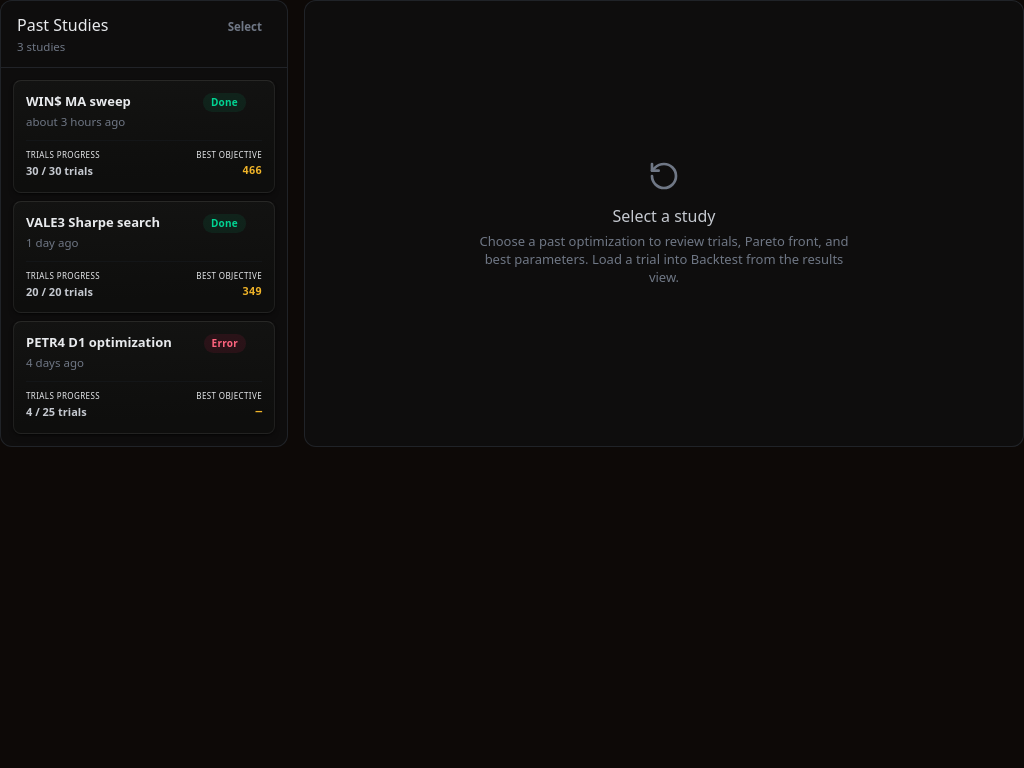
Scenario: OptimizationHistoryPanel › supports bulk delete selection flow
The image size is (1024, 768).
Expected: the heading "Past Studies" is shown, [17,13,108,37]
Click the button "Select" at (245, 27), box [219,13,271,41]
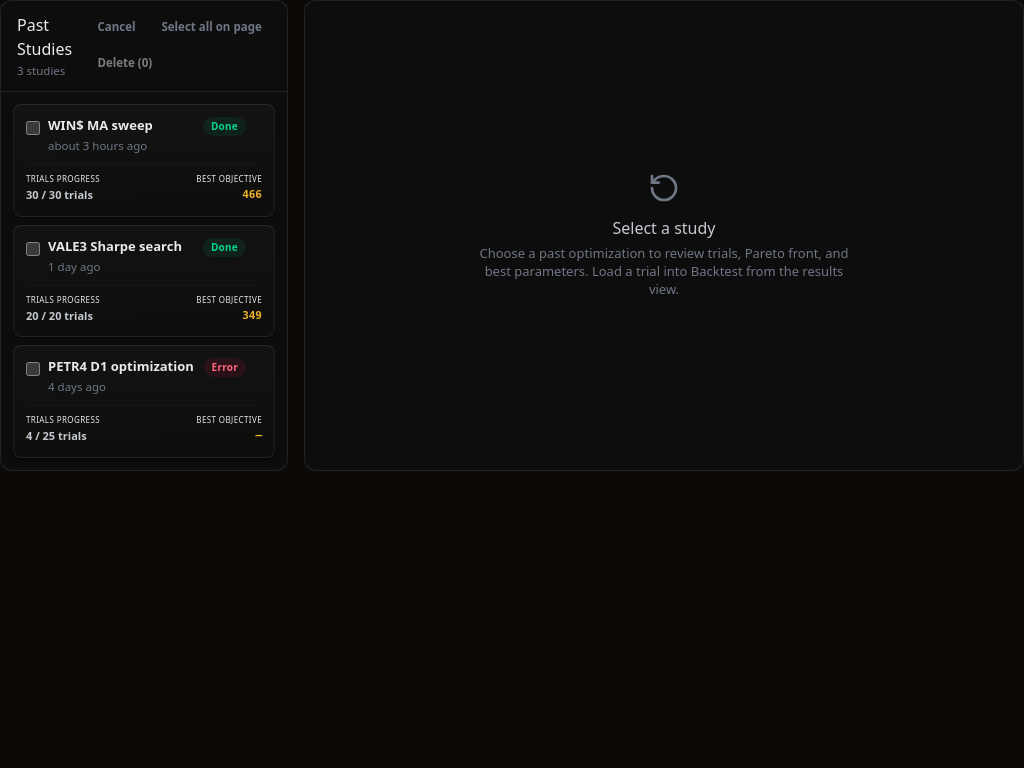
Click the 1st checkbox named "Select item" at (33, 128), box [26,121,40,135]
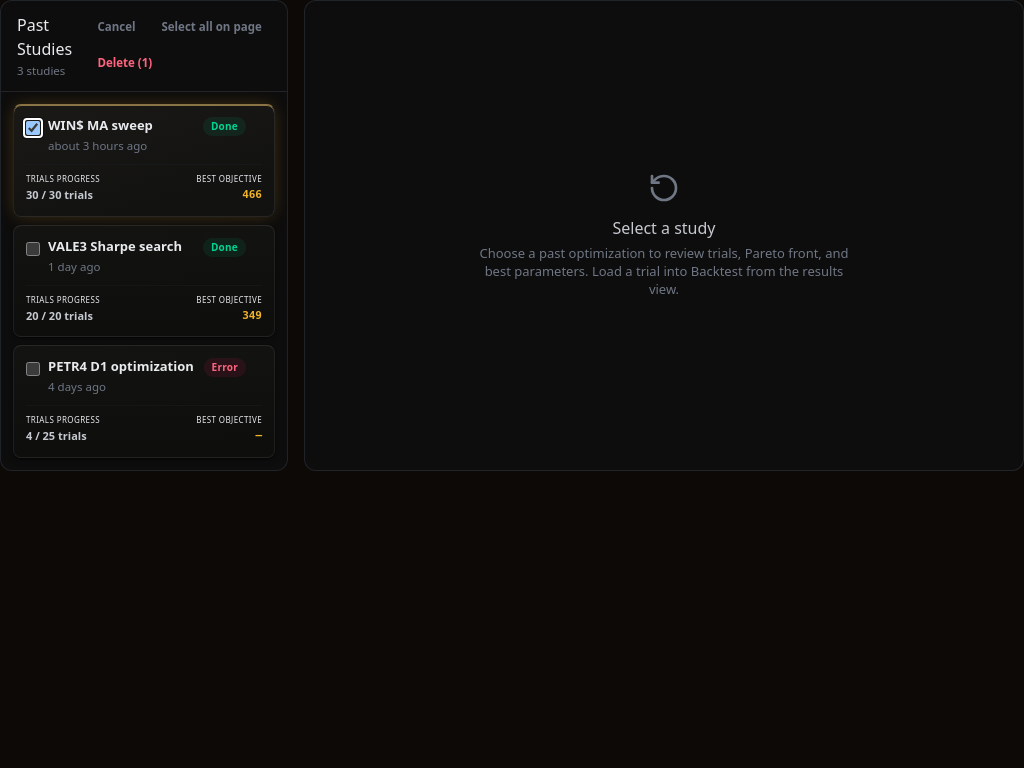
Click the button "Delete (1)" at (125, 63), box [88,49,161,77]
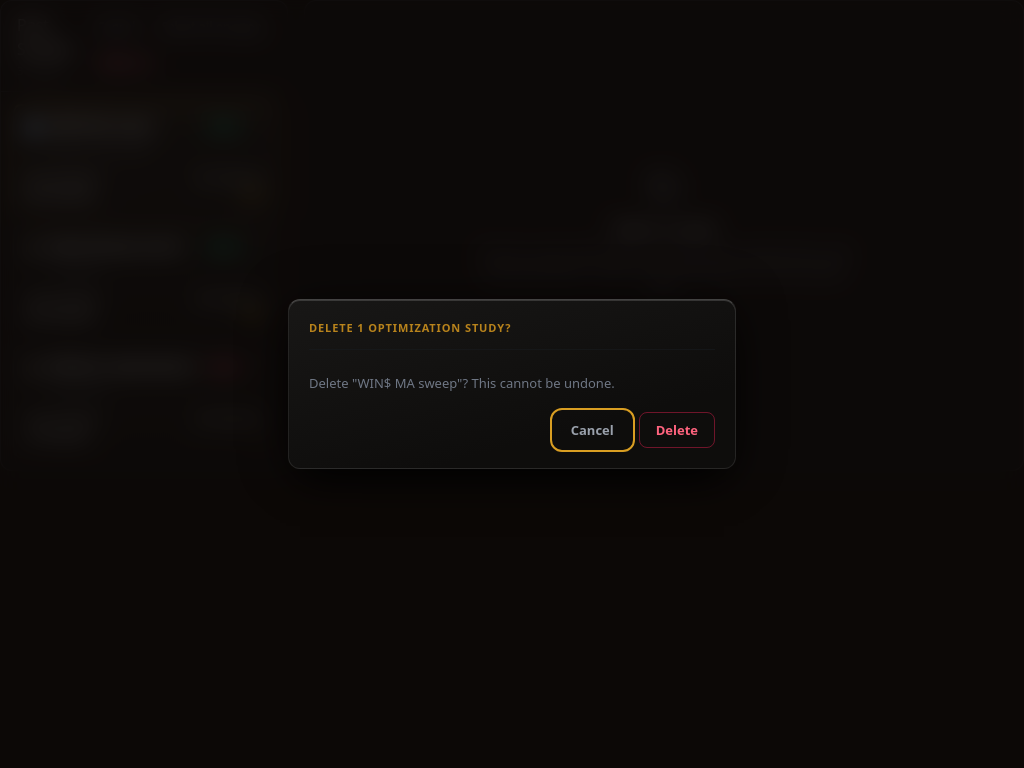
Click the button "Delete" at (677, 430), box [639,412,715,448]
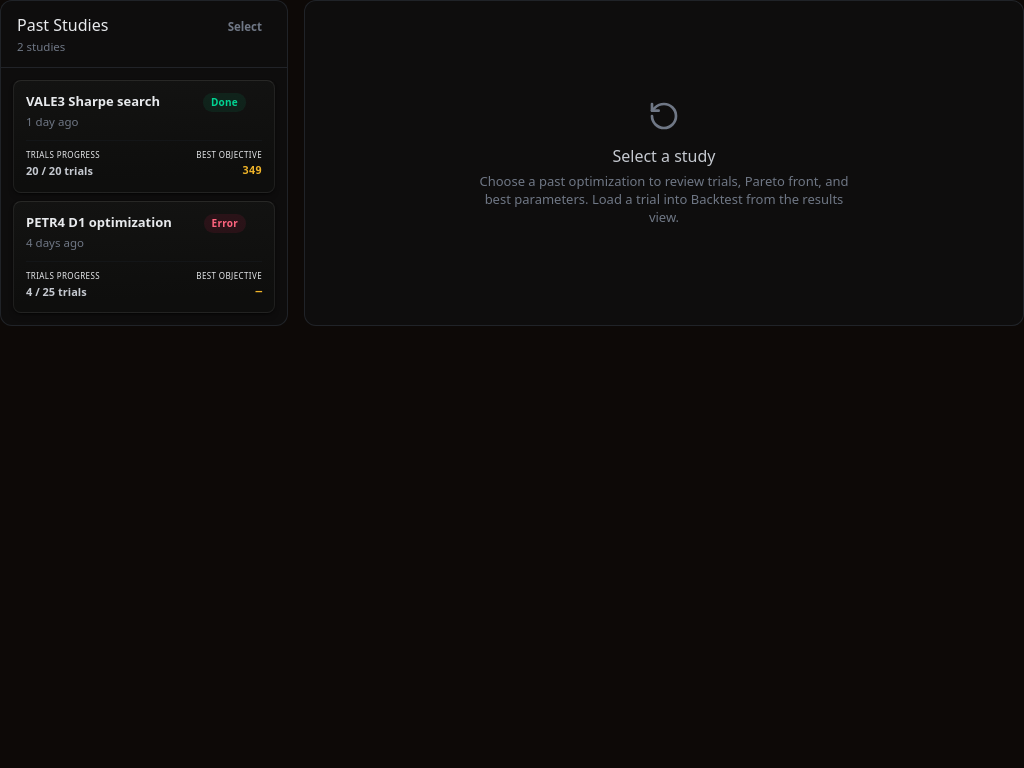
Result: the checkbox is gone
